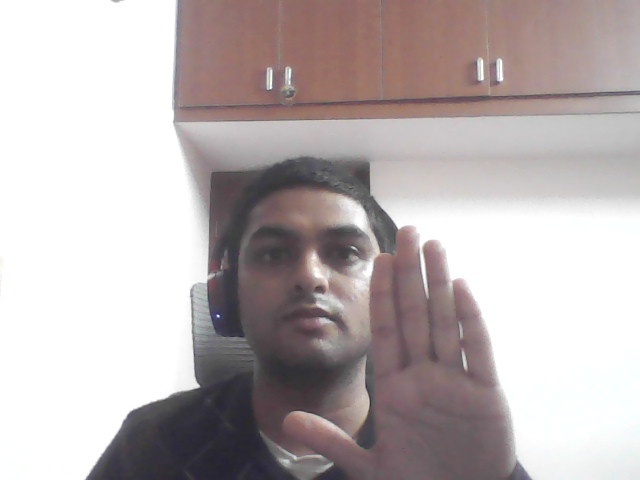Hello: (268, 212, 552, 480)
